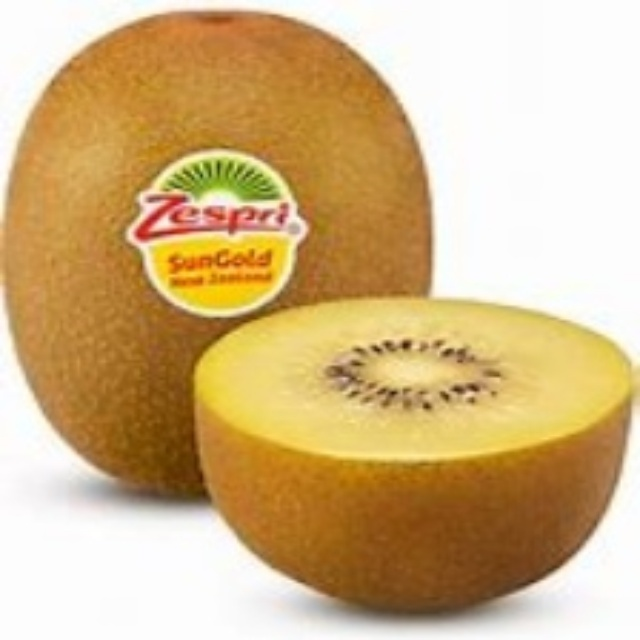kiwi: (11, 2, 444, 509), (193, 288, 632, 626)
